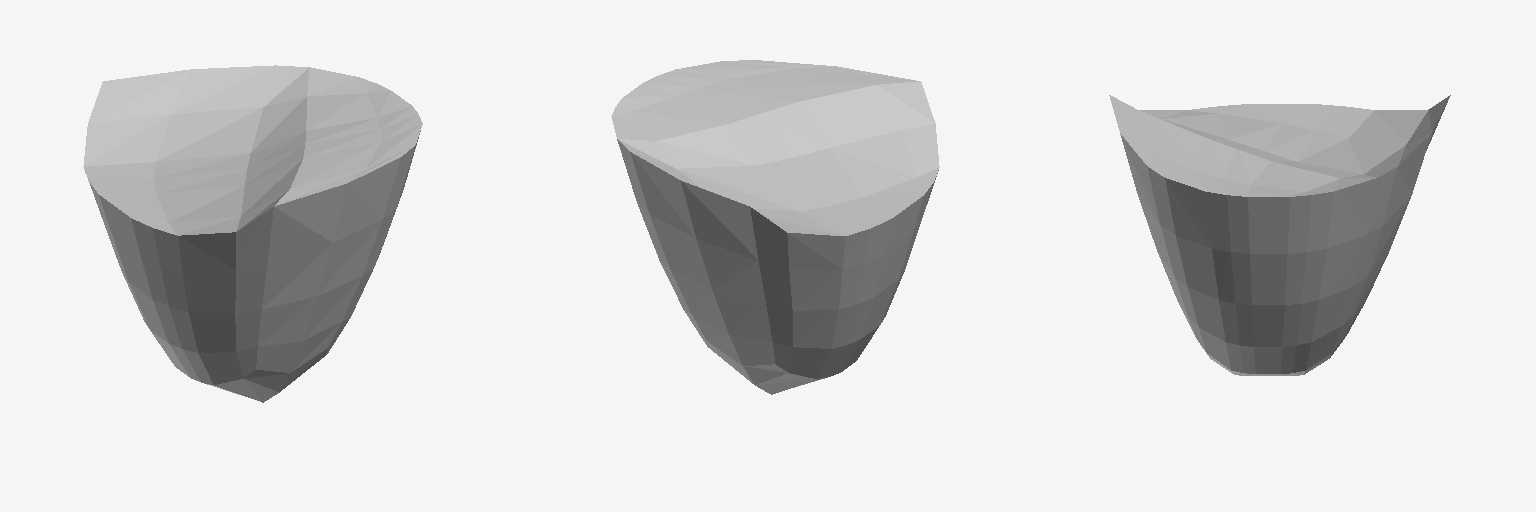
Rendered from oso-pie-l.obj.
3 renders of one model, left to right at view 1: azimuth 30°, elevation 25°; view 2: azimuth 150°, elevation 25°; view 3: azimuth 270°, elevation 25°, orthographic.
Visible parts, largest first — view 1: Cube.000; view 2: Cube.000; view 3: Cube.000.
Boxes of the visible parts, x1,y1,x2,y2 form: Cube.000: [83, 65, 422, 402]; Cube.000: [611, 60, 939, 394]; Cube.000: [1109, 95, 1450, 375].
Bounding box in the file's own units: 0.8416 × 0.7358 × 0.8873.